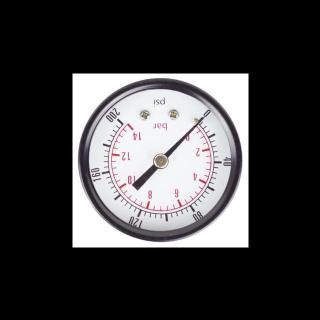gauge: (72, 73, 248, 247), (193, 109, 211, 127), (110, 110, 126, 128), (152, 153, 168, 169), (195, 114, 205, 124)
